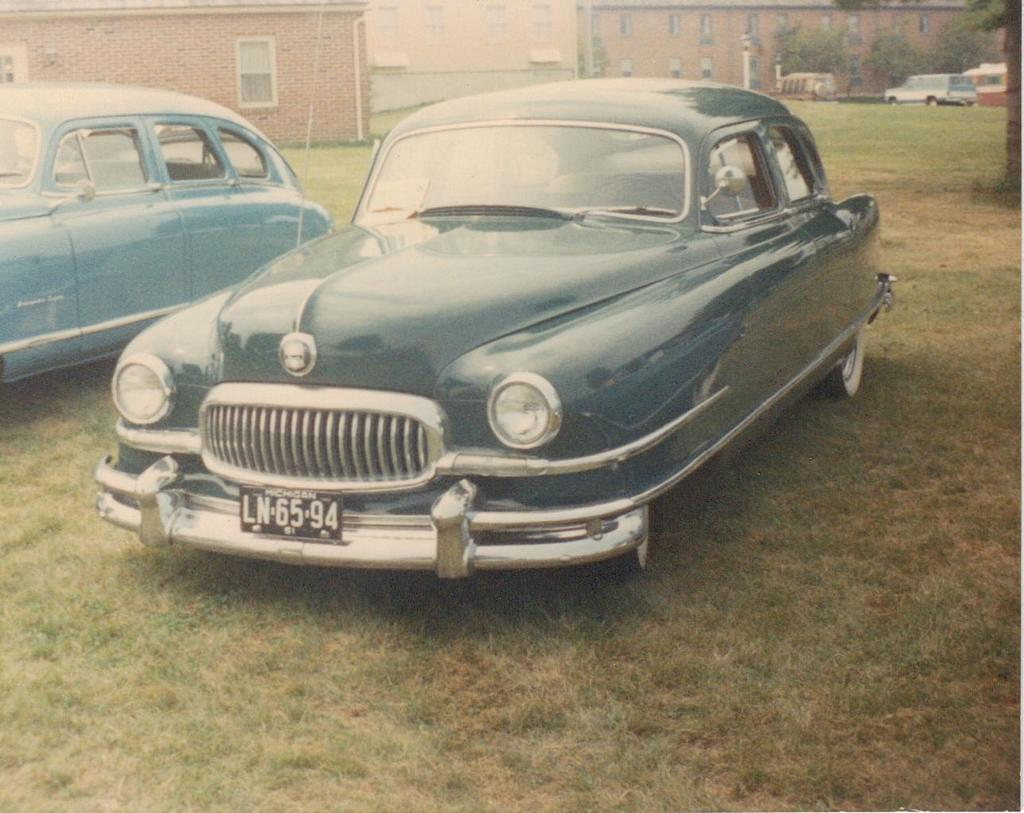mobil: (127, 95, 945, 590)
